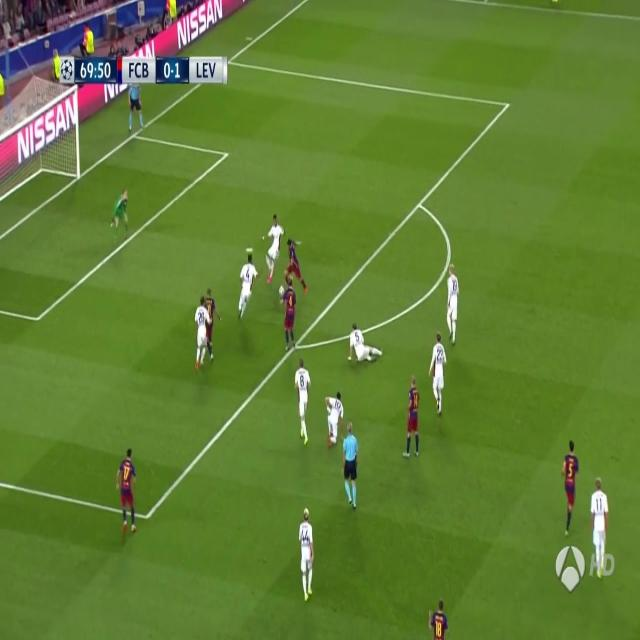Ball: (278, 282, 286, 298)
Goalkeeper: (108, 187, 132, 249)
Player: (114, 449, 140, 537), (560, 439, 582, 537), (237, 252, 265, 324), (590, 475, 610, 574), (427, 332, 449, 421), (283, 233, 311, 299), (346, 322, 386, 368), (292, 358, 312, 448), (298, 506, 316, 605), (402, 375, 422, 464), (264, 212, 286, 286), (324, 391, 346, 454), (192, 294, 209, 375), (445, 262, 461, 348), (204, 287, 222, 362), (282, 274, 296, 356), (426, 595, 450, 640)
Referee: (341, 420, 361, 512), (128, 78, 144, 137)
